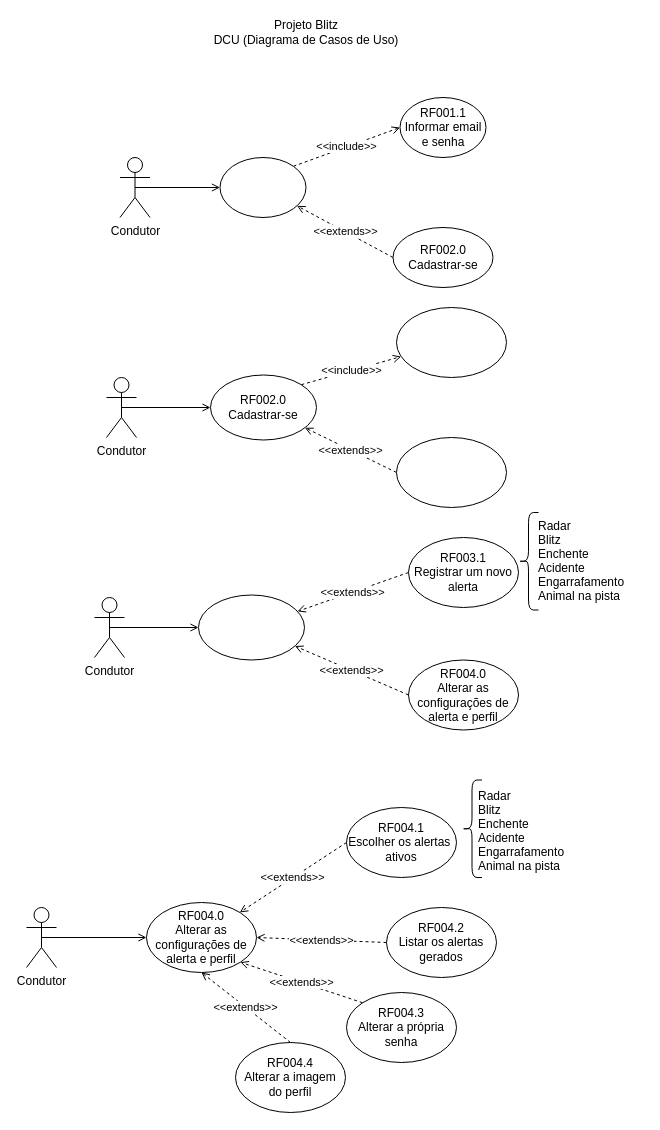
The diagram is 660 pixels wide and 1130 high, and some of its shapes have lost their labels. The centre of each missing label's shape, as x and y in pixels:
"RF001.0 Fazer Login" goes at point (262, 187).
"RF002.1 Informar email e criar uma senha" goes at point (451, 342).
"RF002.2 Anexar uma foto" goes at point (451, 472).
"RF003.0 Ver alertas no mapa" goes at point (251, 627).
